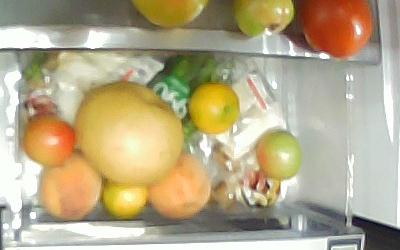peach: (147, 153, 211, 220), (38, 154, 101, 222)
pear: (76, 81, 184, 184)
tangerine: (189, 82, 241, 133), (102, 180, 148, 219)
tomato: (23, 113, 74, 166), (256, 130, 303, 180)
